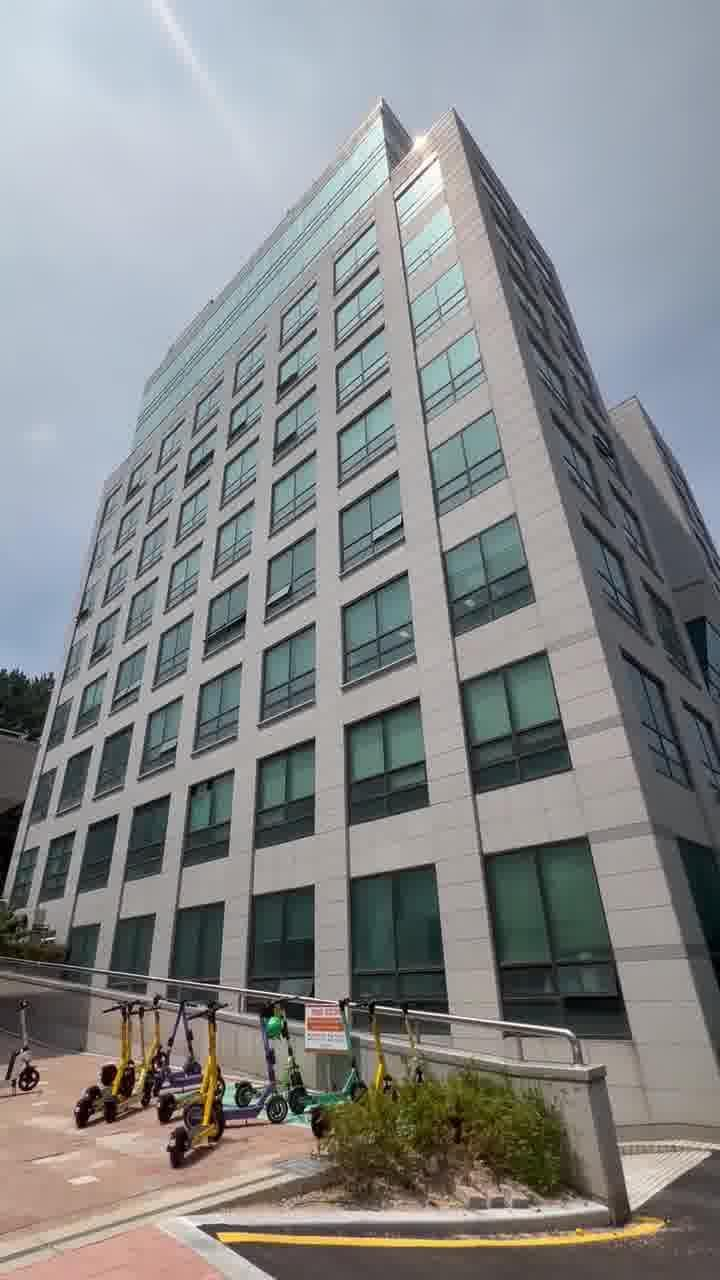building: (12, 118, 720, 938)
